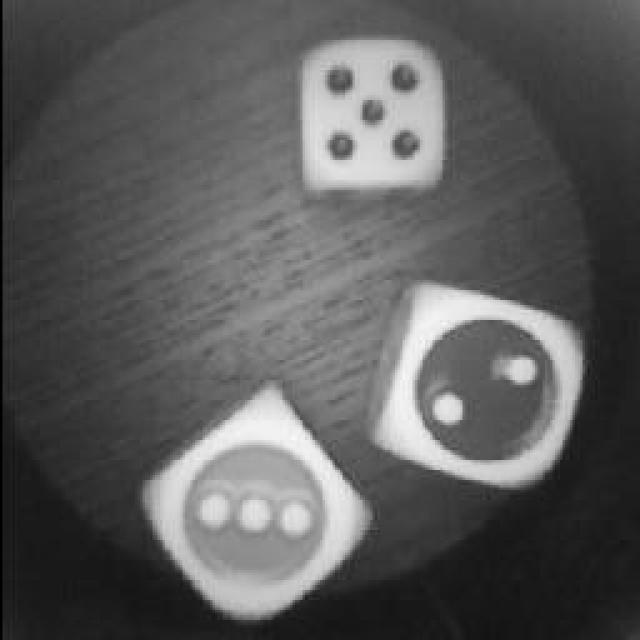dice_2: (372, 280, 588, 485)
dice_3: (147, 410, 365, 622)
dice_5: (285, 28, 457, 200)
